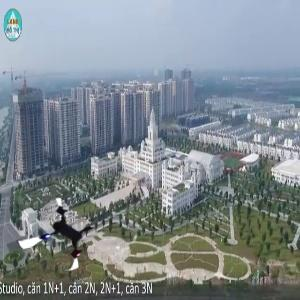drone: (17, 195, 100, 278)
